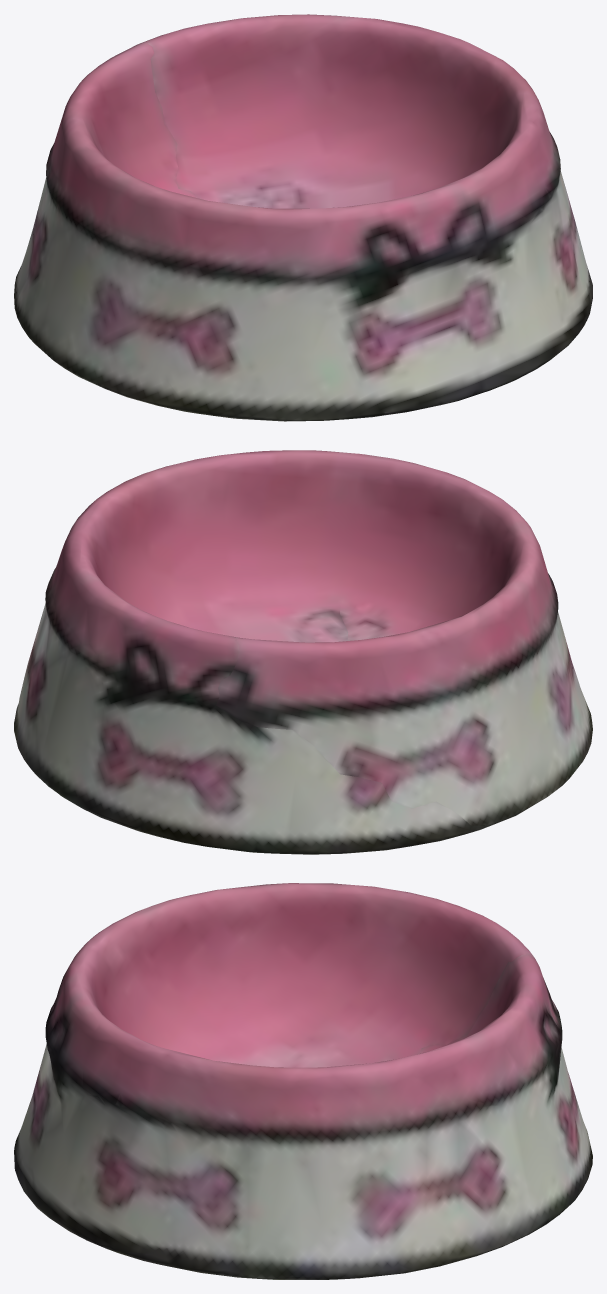
The model's file is Top_Paw_Dog_Bow_Bone_Ceramic_13_fl_oz_total-high.glb.
The picture shows the model from 3 angles, top to bottom: view 1: azimuth 30°, elevation 25°; view 2: azimuth 150°, elevation 25°; view 3: azimuth 270°, elevation 25°; orthographic projection.
Parts seen in each view (by area): view 1: Top_Paw_Dog_Bow_Bone_Ceramic_13_fl_oz_total; view 2: Top_Paw_Dog_Bow_Bone_Ceramic_13_fl_oz_total; view 3: Top_Paw_Dog_Bow_Bone_Ceramic_13_fl_oz_total.
Boxes of the visible parts, box(x1,y1,x2,y2) form: Top_Paw_Dog_Bow_Bone_Ceramic_13_fl_oz_total: box(14, 14, 592, 421); Top_Paw_Dog_Bow_Bone_Ceramic_13_fl_oz_total: box(14, 450, 592, 854); Top_Paw_Dog_Bow_Bone_Ceramic_13_fl_oz_total: box(14, 883, 592, 1279).
Size of the model in its own units: 0.1842 by 0.0685 by 0.1856.
1 material, 1 textured.
